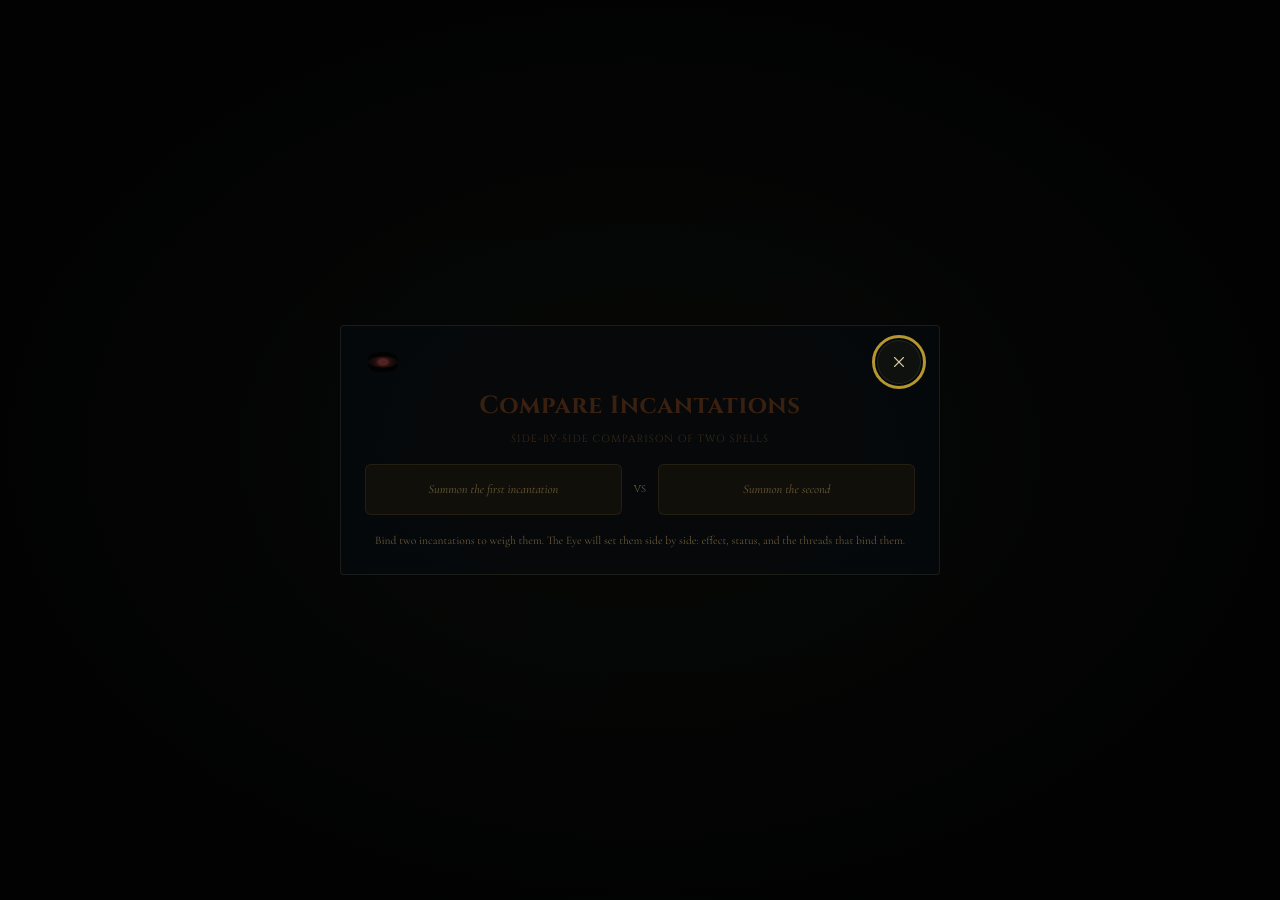
Test case: CompareSpellsModal › opens picker when left slot is clicked
Click the button "Summon the first incantation": [493, 490] box top-left (365, 464), bottom-right (622, 515)
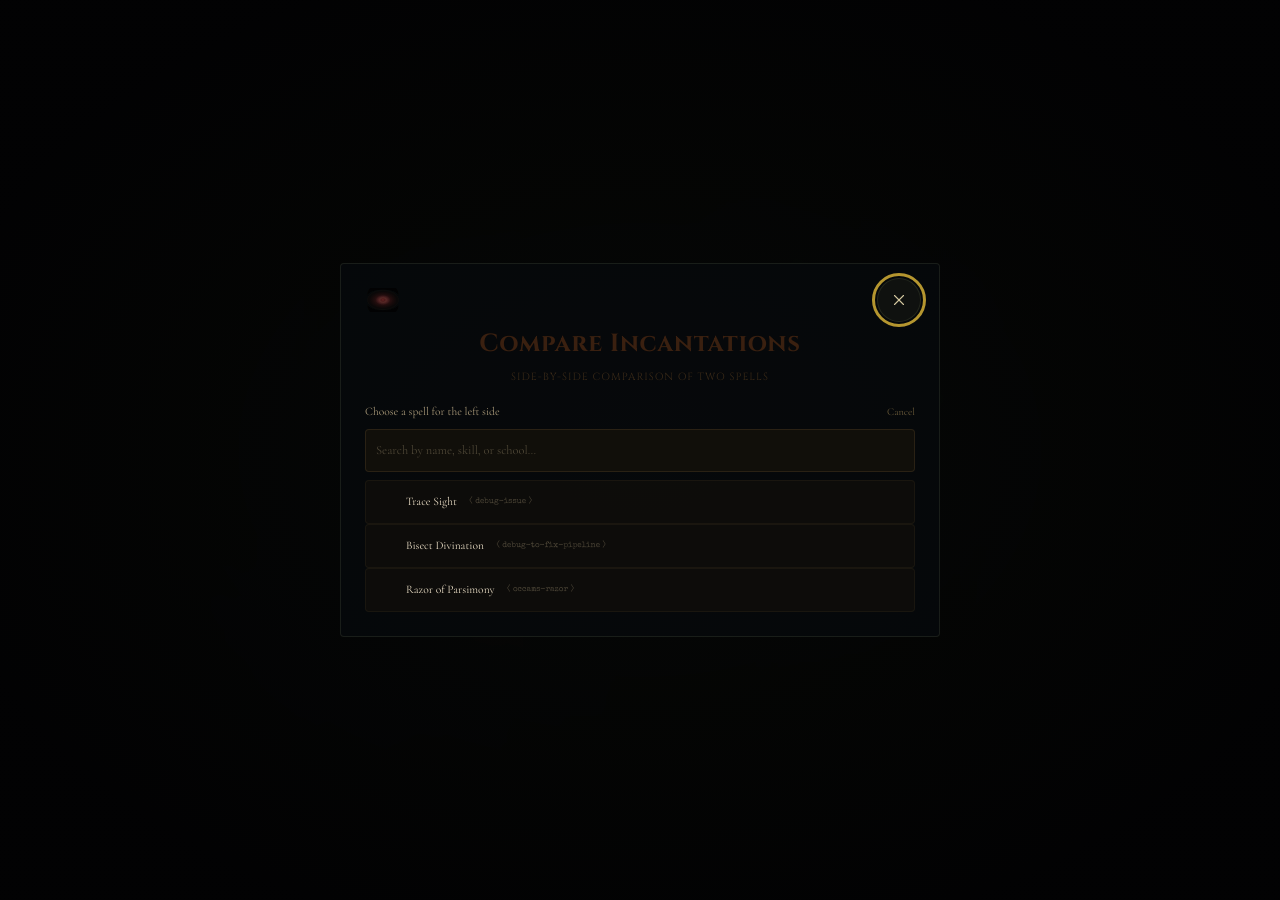
Check: the text "Choose a spell for the left side" is shown, box top-left (365, 402), bottom-right (500, 421)
